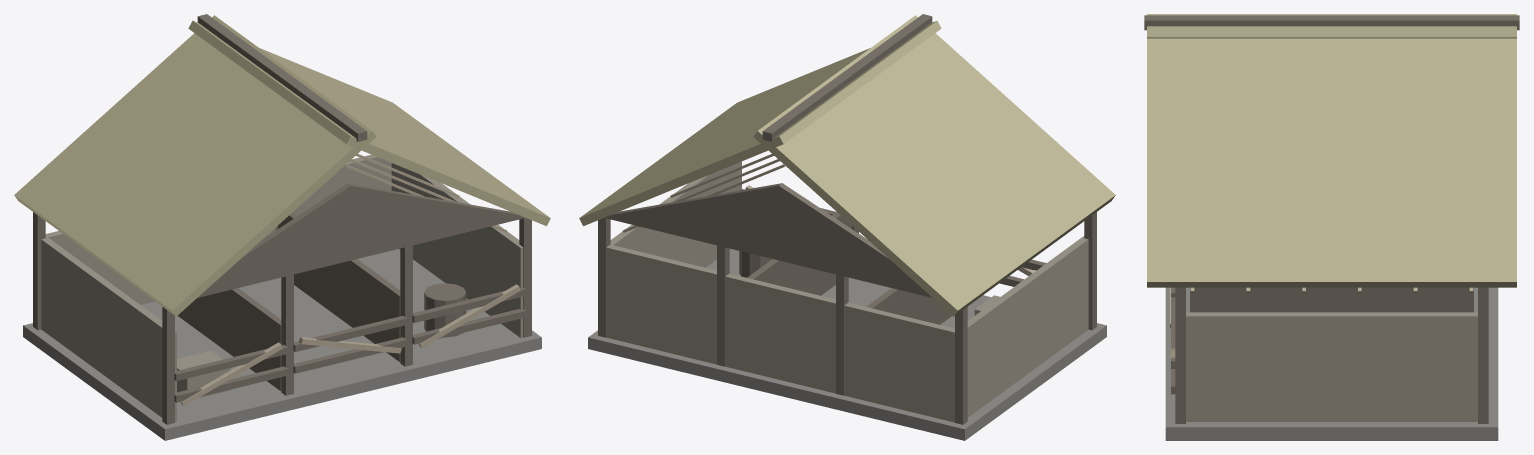
The model's file is Midgard_Barn_V1_YUP.glb.
3 views of the same model, side by side, from view 1: azimuth 30°, elevation 25°; view 2: azimuth 150°, elevation 25°; view 3: azimuth 270°, elevation 25° (orthographic). The views are drawn at different scales.
Parts seen in each view (by area): view 1: Barn_Thatch_L, Barn_Floor, Barn_Front_Gable, Barn_LeftSide, Barn_Thatch_R, Barn_RightSide, Barn_Divider_1.5, Barn_Divider_-1.5, Barn_BackWall, Barn_Thatch_Ridge, Barn_Post_F_0, Barn_Post_F_1 (+14 smaller); view 2: Barn_Thatch_L, Barn_BackWall, Barn_Back_Gable, Barn_LeftSide, Barn_Thatch_R, Barn_Floor, Barn_RightSide, Barn_Thatch_Ridge, Barn_Divider_1.5, Barn_Divider_-1.5, Barn_Post_B_0, Barn_Post_B_2 (+4 smaller); view 3: Barn_Thatch_R, Barn_RightSide, Barn_Floor, Barn_Divider_1.5, Barn_Thatch_L, Barn_Thatch_Ridge, Barn_Post_F_3, Barn_Post_B_3.
Boxes of the visible parts, x1,y1,x2,y2 form: Barn_Thatch_L: (14,15,376,316); Barn_Floor: (23,249,541,440); Barn_Front_Gable: (197,183,525,297); Barn_LeftSide: (41,236,176,422); Barn_Thatch_R: (188,20,550,226); Barn_RightSide: (391,163,523,337); Barn_Divider_1.5: (278,212,400,361); Barn_Divider_-1.5: (177,288,281,390); Barn_BackWall: (45,154,391,304); Barn_Thatch_Ridge: (197,14,367,141); Barn_Post_F_0: (162,307,174,424); Barn_Post_F_1: (281,274,293,395); Barn_Thatch_L: (753,15,1115,316); Barn_BackWall: (606,244,954,422); Barn_Back_Gable: (604,183,932,297); Barn_LeftSide: (967,236,1088,417); Barn_Thatch_R: (579,20,941,226); Barn_Floor: (588,249,1106,440); Barn_RightSide: (607,161,741,267); Barn_Thatch_Ridge: (762,14,932,141); Barn_Divider_1.5: (747,212,851,295); Barn_Divider_-1.5: (866,288,952,324); Barn_Post_B_0: (955,307,967,424); Barn_Post_B_2: (717,245,729,366); Barn_Thatch_R: (1147,14,1516,287); Barn_RightSide: (1186,312,1477,421); Barn_Floor: (1165,287,1498,440); Barn_Divider_1.5: (1190,287,1473,312); Barn_Thatch_L: (1147,26,1516,38); Barn_Thatch_Ridge: (1144,15,1519,30); Barn_Post_F_3: (1175,287,1185,423); Barn_Post_B_3: (1478,287,1488,423).
Bounding box in the file's own units: 9.55 × 6.49 × 7.
